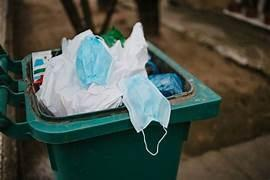Mask: (120, 74, 170, 155), (76, 36, 111, 86)
